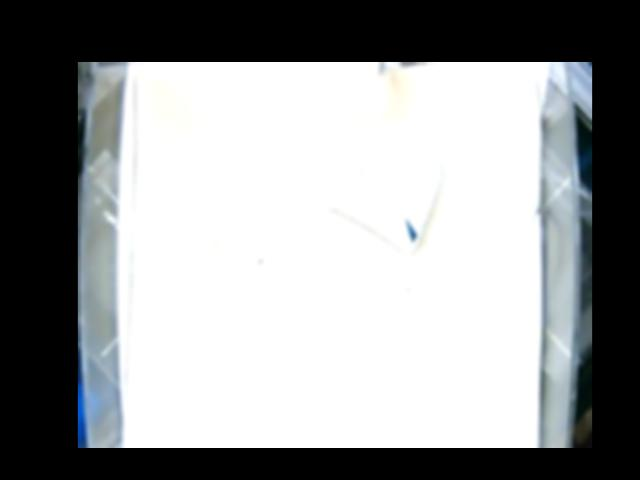China: (311, 148, 442, 254)
